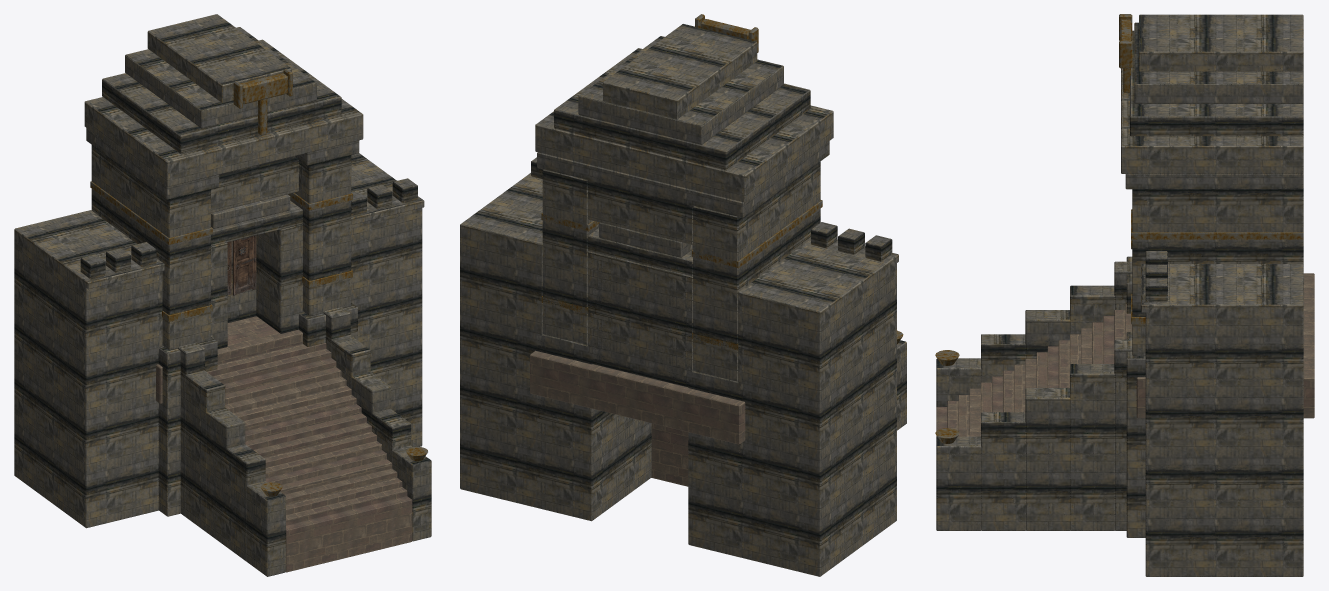
File: hammerfall_gate.gltf
3 views of the same model, side by side, from view 1: azimuth 30°, elevation 25°; view 2: azimuth 150°, elevation 25°; view 3: azimuth 270°, elevation 25° (orthographic). The views are drawn at different scales.
Visible parts, largest first — view 1: gate_stone-col, gate_steps, gate_iron, gate_paving-col, emblem_iron, large_castle_door; view 2: gate_stone-col, gate_paving-col, gate_steps, gate_iron, emblem_iron; view 3: gate_stone-col, gate_steps, gate_iron, gate_paving-col, emblem_iron.
Part boxes in pixels (bbox=[...]): gate_stone-col: bbox=[14, 14, 431, 576]; gate_steps: bbox=[207, 322, 412, 572]; gate_iron: bbox=[90, 181, 427, 496]; gate_paving-col: bbox=[156, 316, 302, 403]; emblem_iron: bbox=[233, 68, 292, 135]; large_castle_door: bbox=[227, 235, 256, 295]; gate_stone-col: bbox=[460, 24, 906, 576]; gate_paving-col: bbox=[530, 350, 745, 444]; gate_steps: bbox=[651, 423, 688, 486]; gate_iron: bbox=[541, 200, 903, 350]; emblem_iron: bbox=[695, 14, 758, 52]; gate_stone-col: bbox=[936, 14, 1303, 576]; gate_steps: bbox=[936, 304, 1132, 436]; gate_iron: bbox=[935, 209, 1303, 443]; gate_paving-col: bbox=[1136, 273, 1314, 418]; emblem_iron: bbox=[1119, 14, 1132, 92].
Size of what is drawn, in the model's own units: 19.2 by 22.75 by 17.05.
5 materials, 5 textured.
